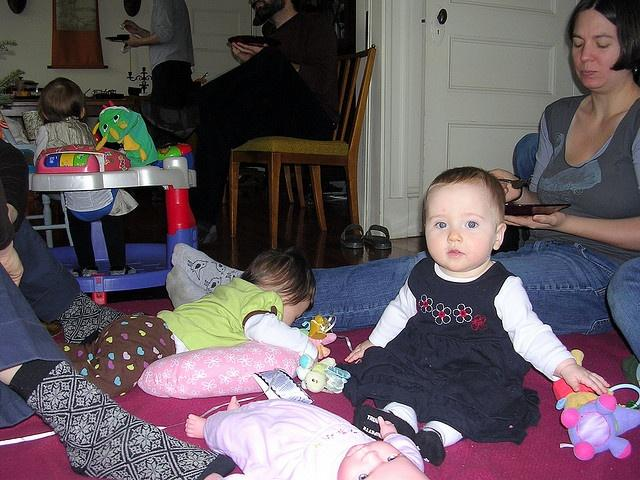Kursi: (228, 45, 376, 250)
